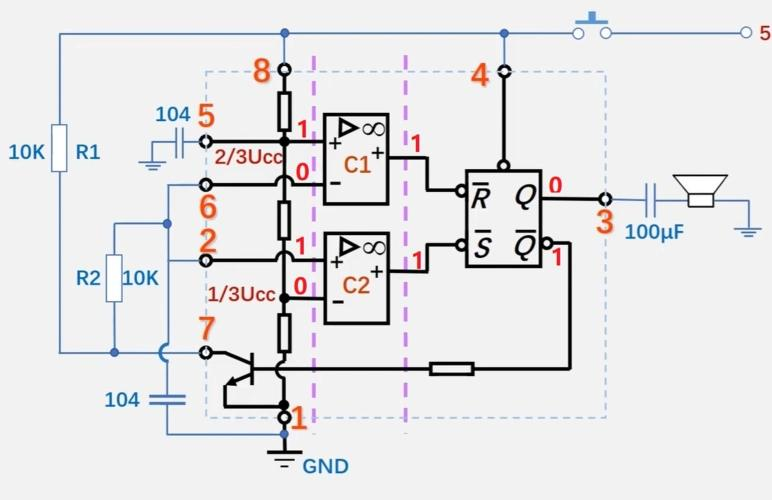bistable flip-flop: (465, 170, 542, 267)
comparator1: (325, 113, 388, 206), (325, 231, 388, 324)
discharge circuit: (227, 345, 260, 394)
output circuit: (553, 183, 594, 216)
reset circuit: (488, 62, 523, 86)
resistance: (277, 201, 290, 240), (277, 313, 290, 352), (278, 93, 290, 131)
